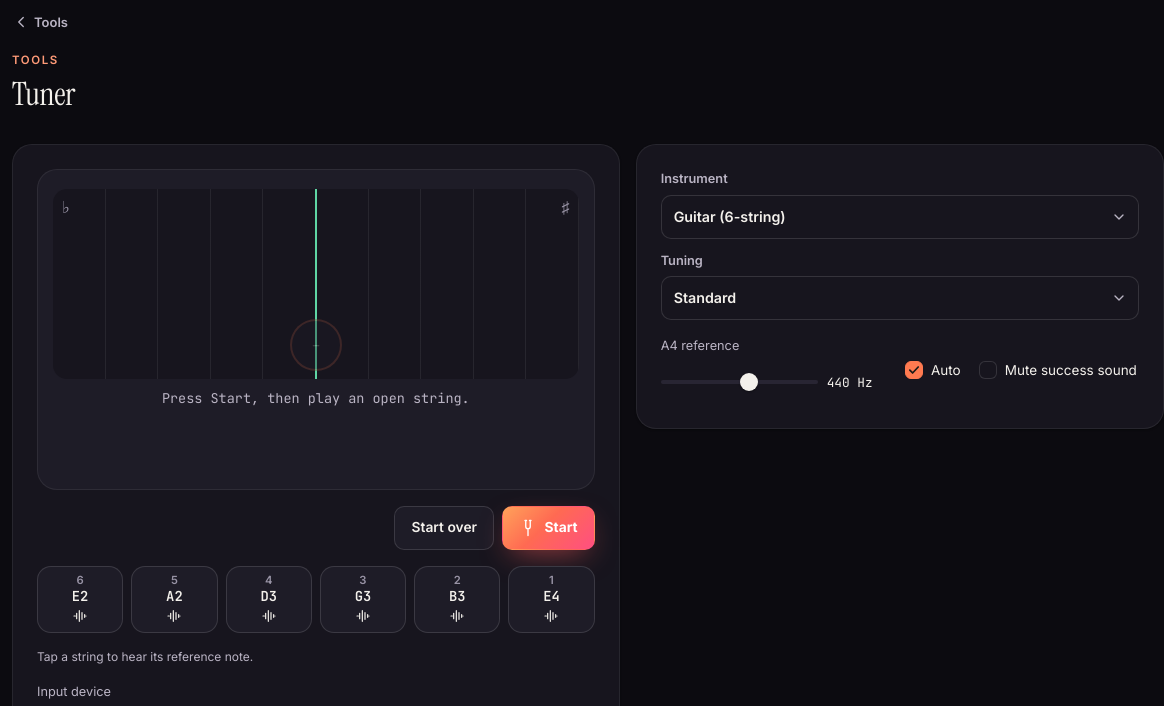
Test case: StandaloneTunerView › updates strings when switching instruments
The image size is (1164, 706).
Select "Bass (4-string)" in the dropdown with test id "tuner-instrument" at (900, 217), box [661,195,1139,239]
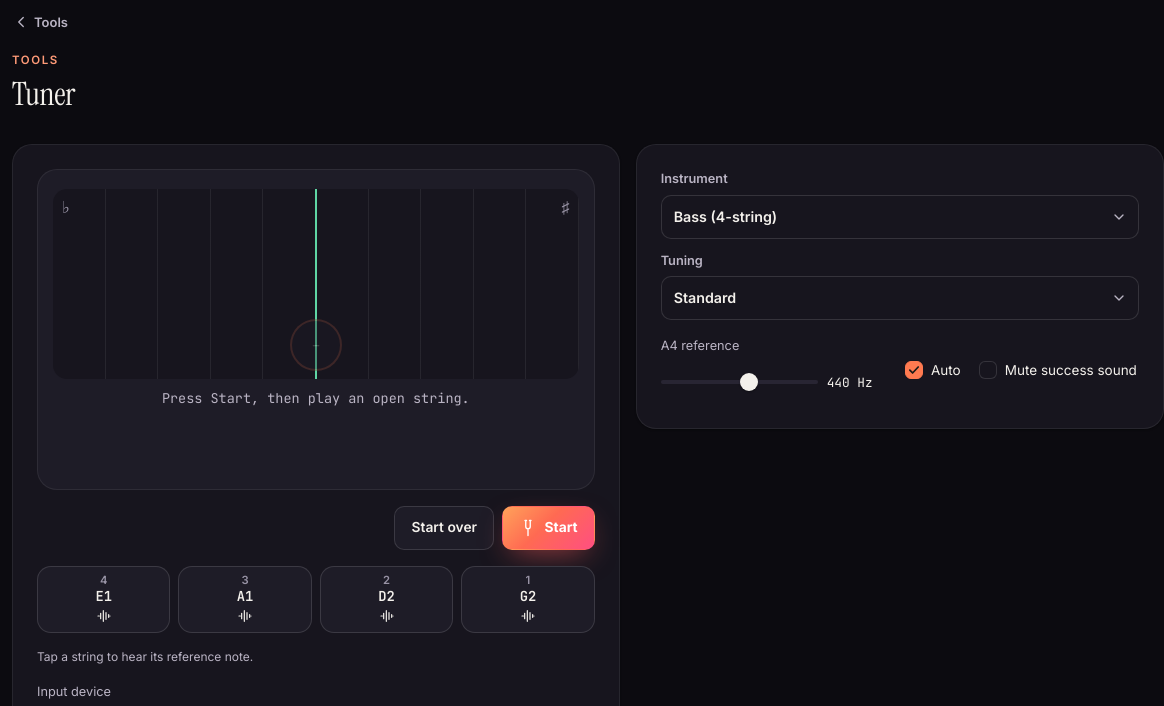
Result: the button with test id "tuner-string-3" shows "E1" at [37,566,170,633]
Result: the button with test id "tuner-string-4" is gone
Select "Drop D" in the dropdown with test id "tuner-tuning" at (900, 298), box [661,276,1139,320]
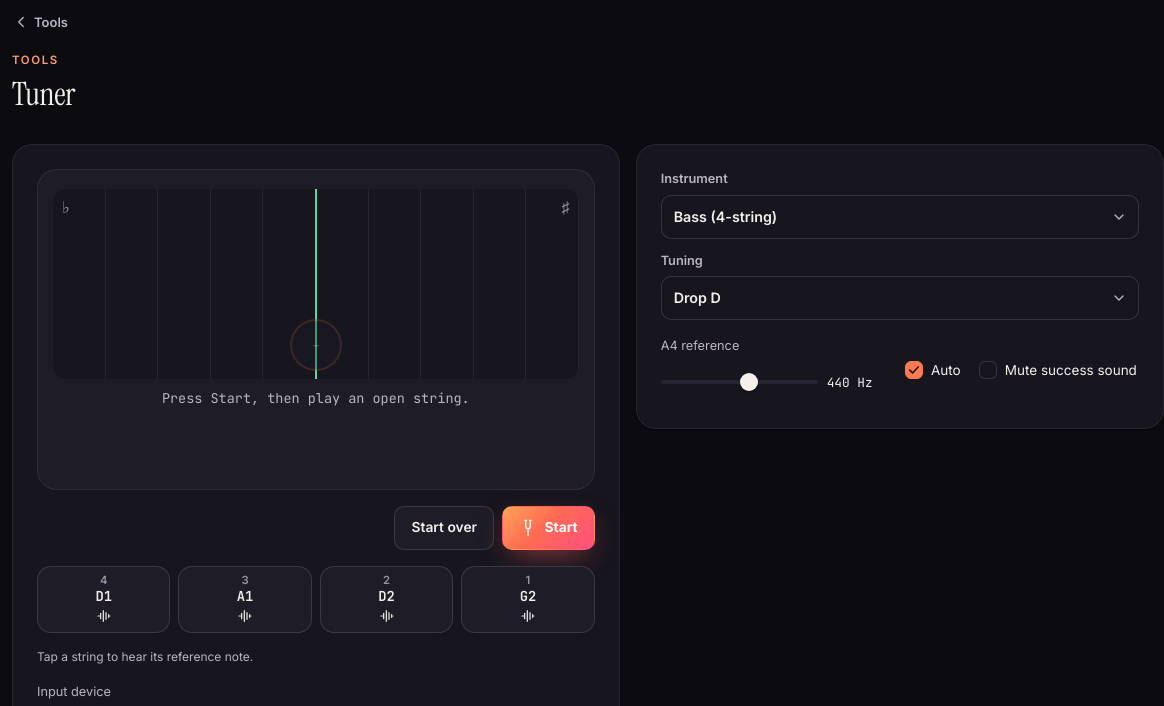
Result: the button with test id "tuner-string-3" shows "D1" at [37,566,170,633]
